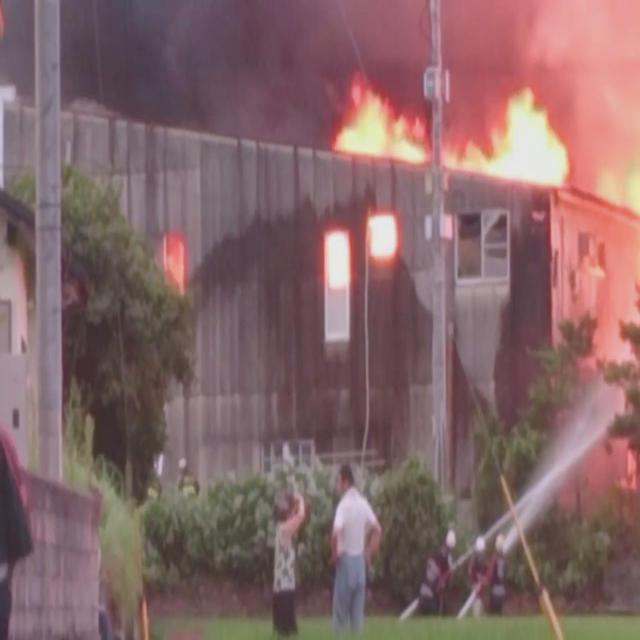Fire: (446, 76, 570, 190), (329, 76, 428, 160), (165, 237, 189, 295)
